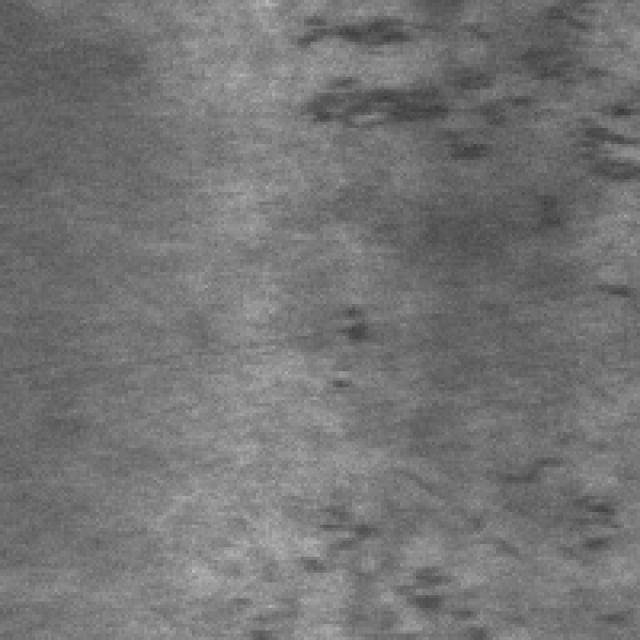rolled-in_scale: (234, 442, 634, 627), (275, 0, 630, 150)
